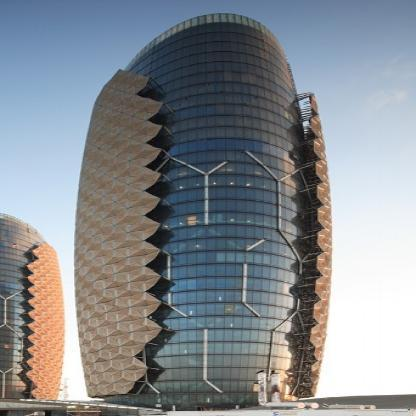Building Outline: (0, 13, 332, 416)
Decorative Shell: (74, 69, 163, 397), (308, 93, 333, 397)
Dont: (167, 370, 416, 416), (67, 408, 99, 416), (24, 411, 45, 416)
Facade: (162, 29, 271, 416)
Floor: (196, 238, 238, 250), (196, 264, 238, 276), (196, 303, 238, 315), (196, 127, 238, 138), (196, 187, 238, 198), (196, 200, 238, 211), (196, 213, 238, 224), (196, 226, 238, 237), (196, 278, 238, 289), (196, 291, 238, 302), (196, 317, 238, 328), (196, 330, 238, 341), (196, 343, 238, 354), (196, 368, 238, 379), (196, 381, 238, 392), (196, 394, 238, 405), (196, 115, 238, 125), (196, 140, 238, 150), (196, 151, 238, 161), (196, 163, 238, 173), (196, 175, 238, 185), (196, 252, 238, 262), (196, 356, 238, 366), (196, 42, 238, 51), (196, 73, 238, 82), (196, 83, 238, 92), (196, 104, 238, 113), (196, 53, 238, 61), (196, 63, 238, 71), (196, 94, 238, 102), (196, 33, 238, 40)
Floor Slab: (196, 405, 238, 407), (196, 379, 238, 381), (196, 366, 238, 368), (196, 354, 238, 356), (196, 341, 238, 343), (196, 328, 238, 330), (196, 315, 238, 317), (196, 302, 238, 304), (196, 289, 238, 291), (196, 276, 238, 278), (196, 262, 238, 264), (196, 250, 238, 252), (196, 237, 238, 239), (196, 224, 238, 226), (196, 211, 238, 213), (196, 198, 238, 200), (196, 186, 238, 188), (196, 173, 238, 175), (196, 161, 238, 163), (196, 150, 238, 152), (196, 138, 238, 140), (196, 125, 238, 127), (196, 113, 238, 115), (196, 102, 238, 104), (196, 92, 238, 94), (196, 82, 238, 84), (196, 71, 238, 73), (196, 61, 238, 63), (196, 51, 238, 53), (196, 41, 238, 43), (196, 31, 238, 33), (196, 392, 238, 394)
Ground Floor: (195, 406, 238, 416)
Top Floor: (196, 17, 238, 31)
